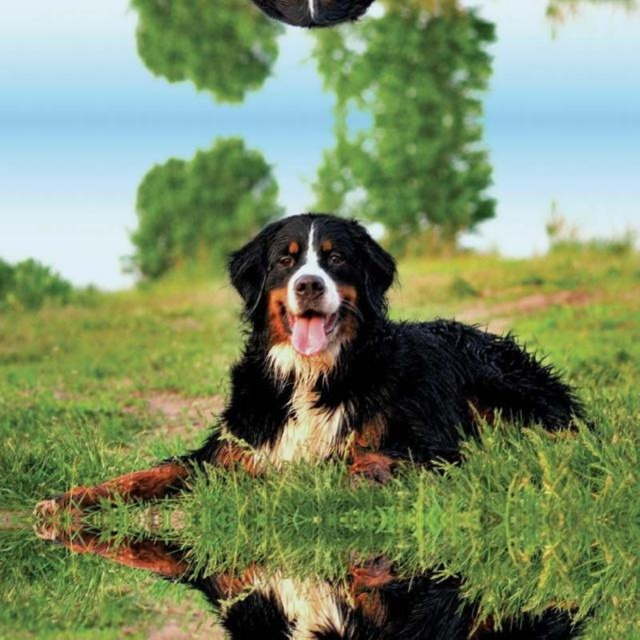dog: (222, 197, 428, 373), (222, 0, 428, 43)
